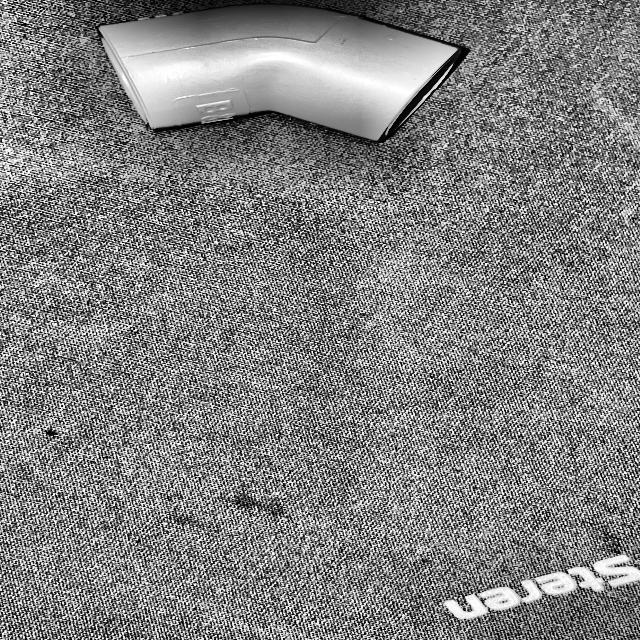ELBOW45: (99, 3, 466, 143)
